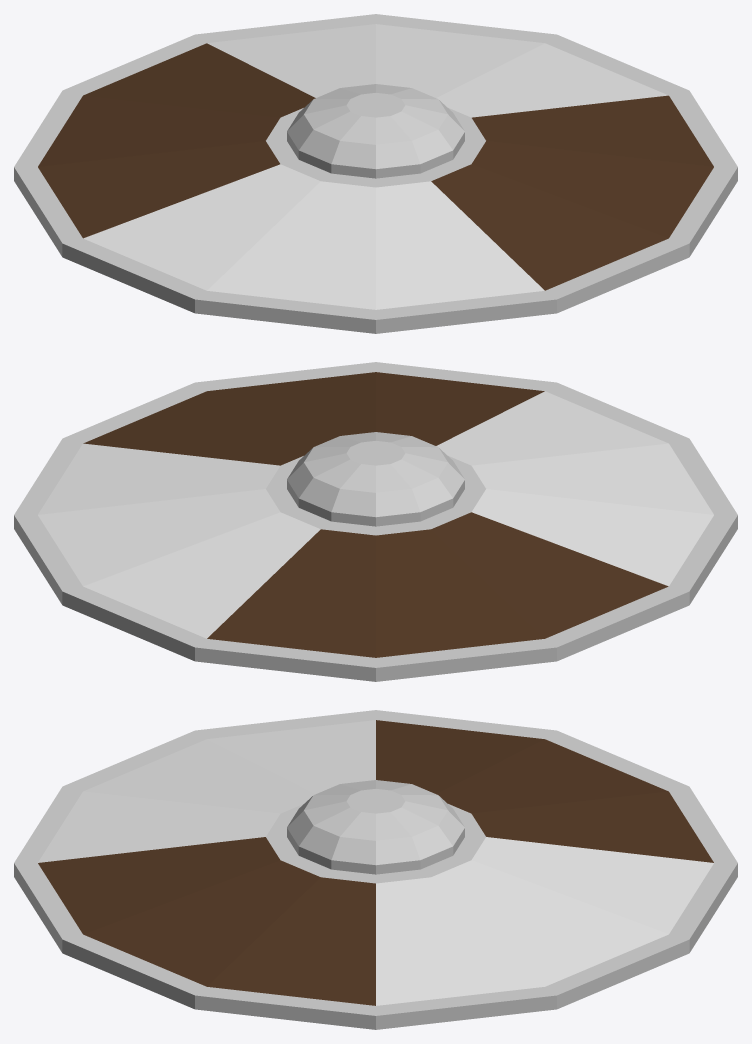
File: Mesh_RoundShield2.fbx
The picture shows the model from 3 angles, top to bottom: view 1: azimuth 30°, elevation 25°; view 2: azimuth 150°, elevation 25°; view 3: azimuth 270°, elevation 25°; orthographic projection.
Visible parts, largest first — view 1: Circle; view 2: Circle; view 3: Circle.
Part boxes in pixels (x1,y1,x2,y2): Circle: [14, 14, 737, 333]; Circle: [14, 362, 737, 681]; Circle: [14, 710, 737, 1029].
Bounding box in the file's own units: 200 × 23.08 × 200.
